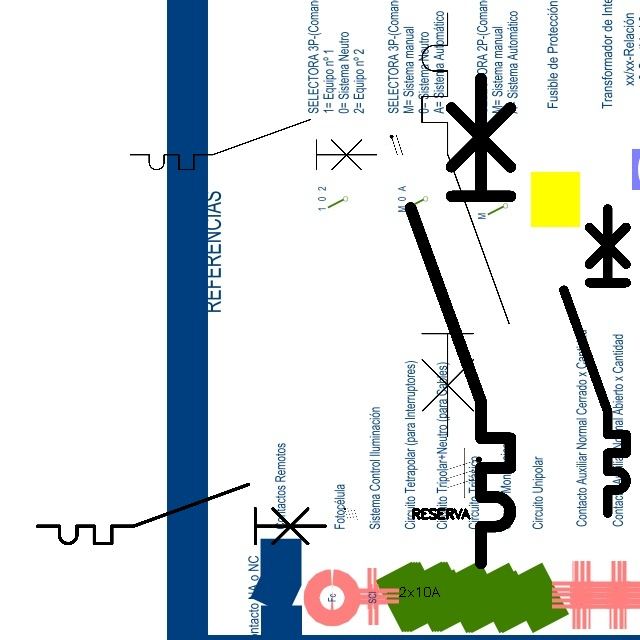interruptor_termomagnetico: (398, 66, 523, 576), (411, 2, 520, 447), (556, 201, 634, 521), (30, 477, 333, 551), (124, 113, 382, 176)
